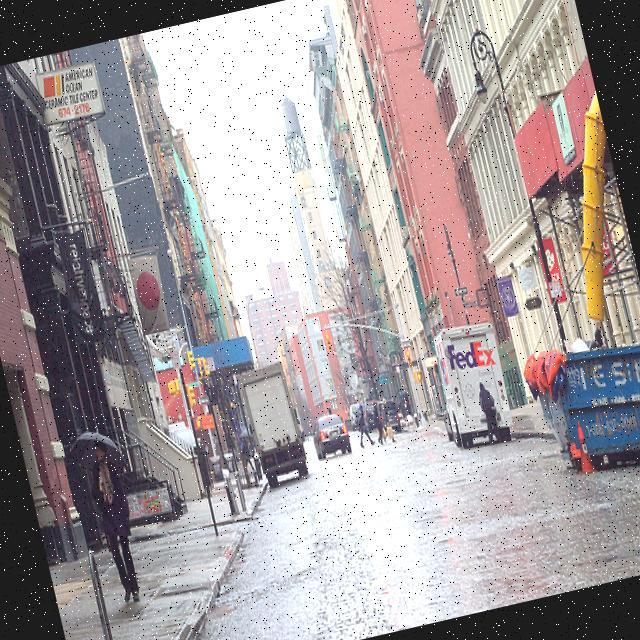fire_hydrant: (218, 466, 238, 516), (252, 450, 264, 480), (412, 411, 419, 426)
